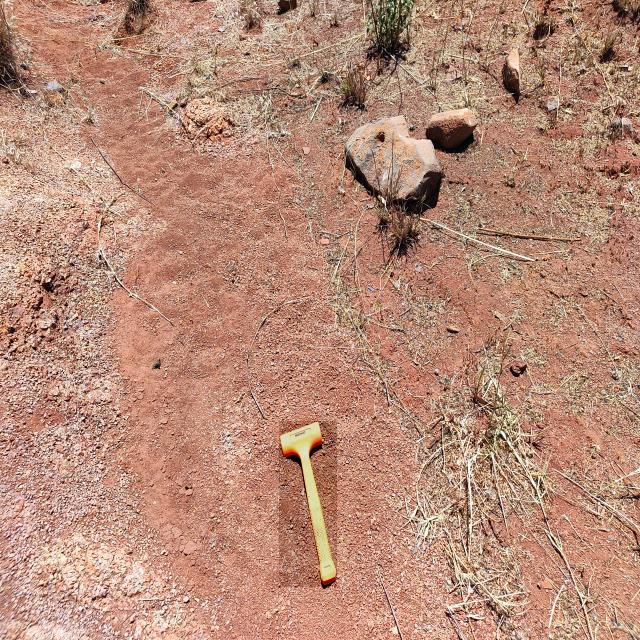Orange_hammer: (279, 422, 337, 588)
